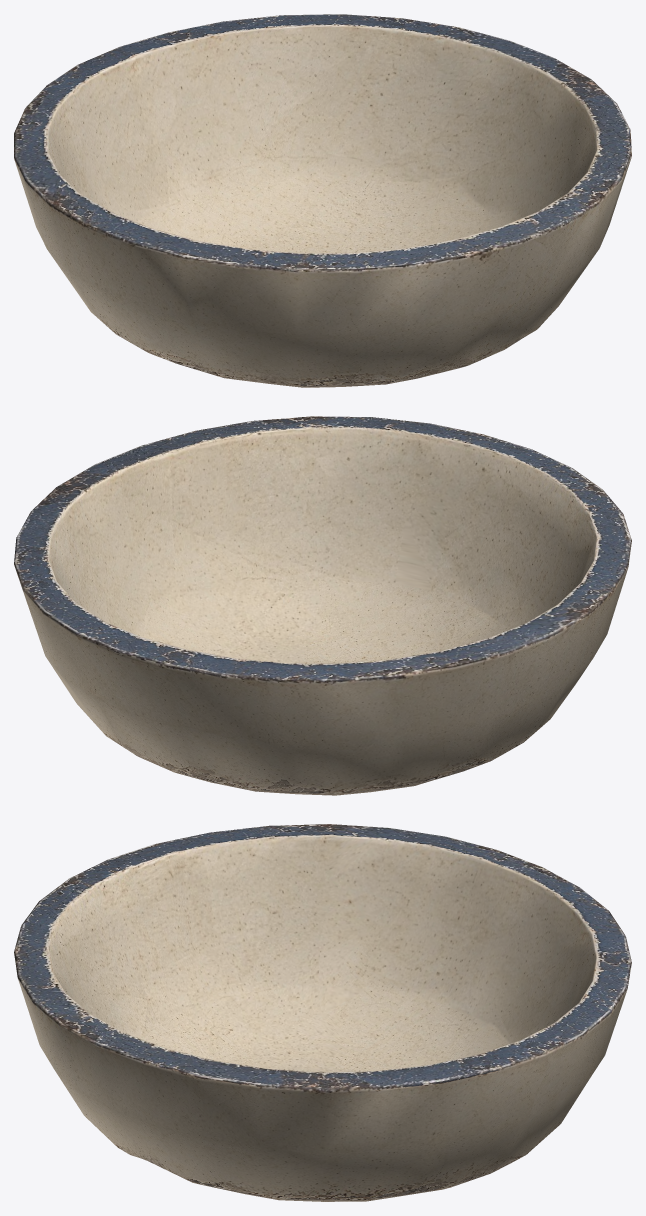
Rendered from wash_basin_enamel.glb.
The picture shows the model from 3 angles, top to bottom: view 1: azimuth 30°, elevation 25°; view 2: azimuth 150°, elevation 25°; view 3: azimuth 270°, elevation 25°; orthographic projection.
Visible parts, largest first — view 1: tripo_node_7afc1e86-f8ab-4f9a-a0aa-127fb3518c86; view 2: tripo_node_7afc1e86-f8ab-4f9a-a0aa-127fb3518c86; view 3: tripo_node_7afc1e86-f8ab-4f9a-a0aa-127fb3518c86.
Boxes of the visible parts, x1=… form: tripo_node_7afc1e86-f8ab-4f9a-a0aa-127fb3518c86: x1=14, y1=14, x2=631, y2=387; tripo_node_7afc1e86-f8ab-4f9a-a0aa-127fb3518c86: x1=14, y1=416, x2=631, y2=795; tripo_node_7afc1e86-f8ab-4f9a-a0aa-127fb3518c86: x1=14, y1=824, x2=631, y2=1201.
Size of the model in its own units: 0.9995 by 0.3491 by 0.9995.
Materials: 1 (1 with a texture image).
